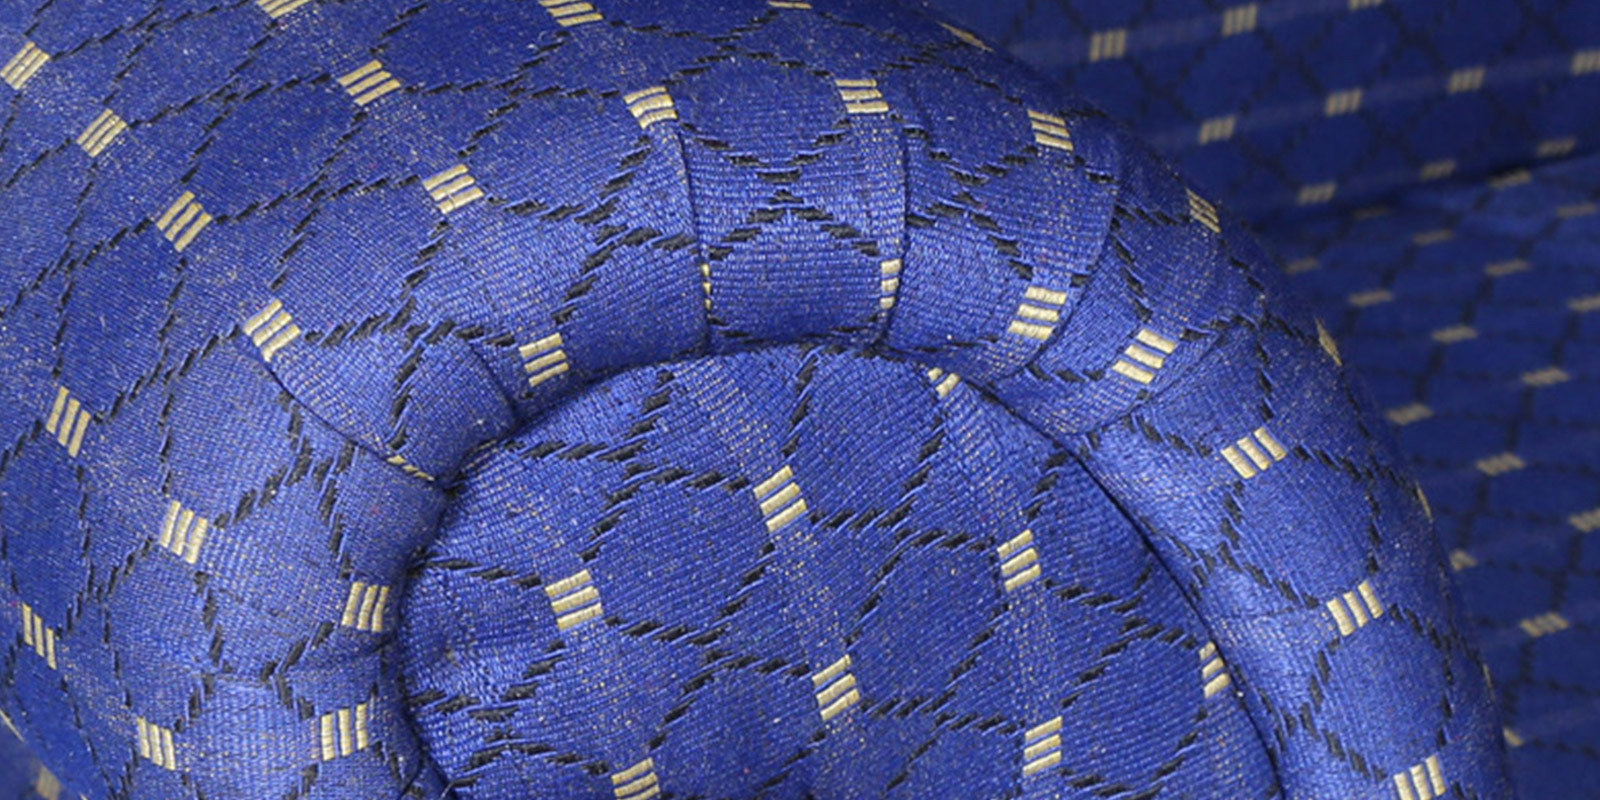Bayley Three Seater Sofa in Blue Color by Amberville: (9, 24, 1474, 746)
